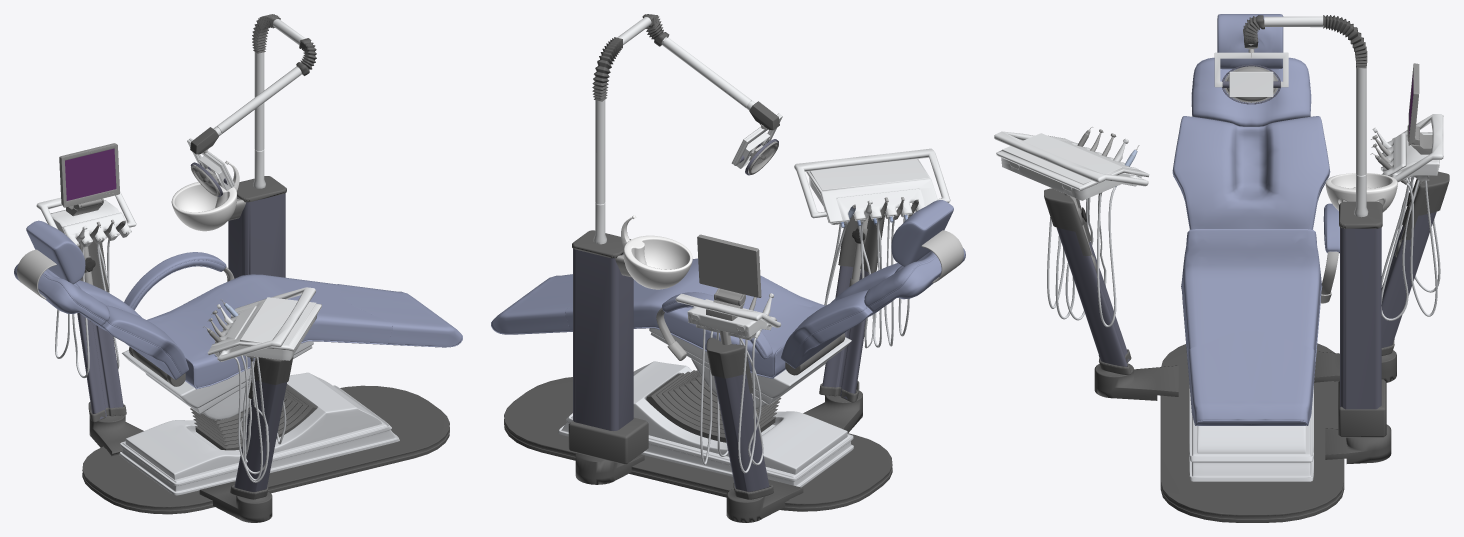
Rendered from dental_chair.glb.
3 views of the same model, side by side, from view 1: azimuth 30°, elevation 25°; view 2: azimuth 150°, elevation 25°; view 3: azimuth 270°, elevation 25° (orthographic). The views are drawn at different scales.
Visible parts, largest first — view 1: objArmcha4, objArmcha2, Rectangle1, objArmcha7, Rectangle0, Object03, Rectangle5, Line183, Line189, Rectangle2, Box02, Sphere01 (+19 smaller); view 2: Rectangle0, objArmcha4, Rectangle1, objArmcha2, objArmcha7, Rectangle5, ChamferBox, Line189, Box02, Object03, Arch35_022, Sphere01 (+19 smaller); view 3: objArmcha7, objArmcha2, Rectangle1, Object03, Rectangle0, objArmcha4, Line183, ChamferBox, Rectangle5, Line09, Line189, objArmcha5 (+17 smaller).
Boxes of the visible parts, <box> form: objArmcha4: <box>119,372,399,495</box>; objArmcha2: <box>147,274,462,389</box>; Rectangle1: <box>82,385,449,506</box>; objArmcha7: <box>14,264,188,379</box>; Rectangle0: <box>228,193,285,278</box>; Object03: <box>338,284,462,346</box>; Rectangle5: <box>207,297,321,355</box>; Line183: <box>234,380,286,491</box>; Line189: <box>77,313,123,419</box>; Rectangle2: <box>82,399,449,514</box>; Box02: <box>190,385,317,450</box>; Sphere01: <box>171,182,236,231</box>; Rectangle0: <box>573,248,633,430</box>; objArmcha4: <box>558,361,853,487</box>; Rectangle1: <box>504,377,892,503</box>; objArmcha2: <box>491,258,824,378</box>; objArmcha7: <box>781,248,965,368</box>; Rectangle5: <box>806,159,937,223</box>; ChamferBox: <box>568,417,648,484</box>; Line189: <box>714,374,769,491</box>; Box02: <box>646,370,781,442</box>; Object03: <box>491,274,572,333</box>; Arch35_022: <box>697,234,761,297</box>; Sphere01: <box>623,235,692,289</box>; objArmcha7: <box>1172,57,1330,229</box>; objArmcha2: <box>1181,229,1322,425</box>; Rectangle1: <box>1161,343,1343,514</box>; Object03: <box>1188,330,1315,424</box>; Rectangle0: <box>1340,227,1381,409</box>; objArmcha4: <box>1189,385,1313,481</box>; Line183: <box>1056,227,1129,366</box>; ChamferBox: <box>1325,379,1391,463</box>; Rectangle5: <box>996,133,1149,190</box>; Line09: <box>994,131,1148,200</box>; Line189: <box>1381,212,1436,347</box>; objArmcha5: <box>1217,14,1283,69</box>.
Bounding box in the file's own units: 81.26 × 75.79 × 70.85.
